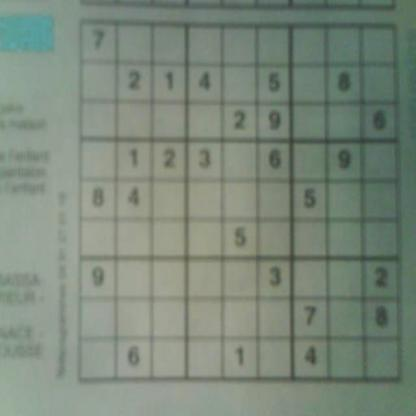sudoku: (74, 15, 405, 388)
